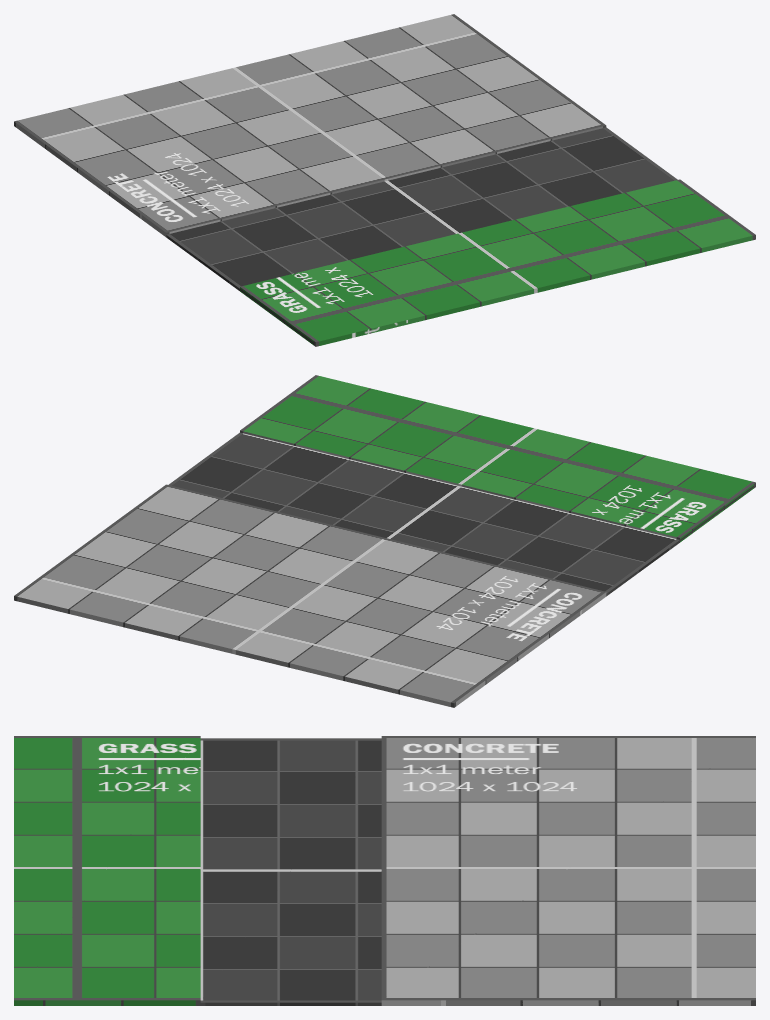
File: unitystreet.fbx
3 views of the same model, one above another, from view 1: azimuth 30°, elevation 25°; view 2: azimuth 150°, elevation 25°; view 3: azimuth 270°, elevation 25° (orthographic). The views are drawn at different scales.
Parts seen in each view (by area): view 1: Ground; view 2: Ground; view 3: Ground.
Part boxes in pixels (x1,y1,x2,y2): Ground: (14,14,755,346); Ground: (14,375,755,707); Ground: (14,736,755,1005).
Size of the model in its own units: 2524 by 25.51 by 2998.
3 materials, 3 textured.
